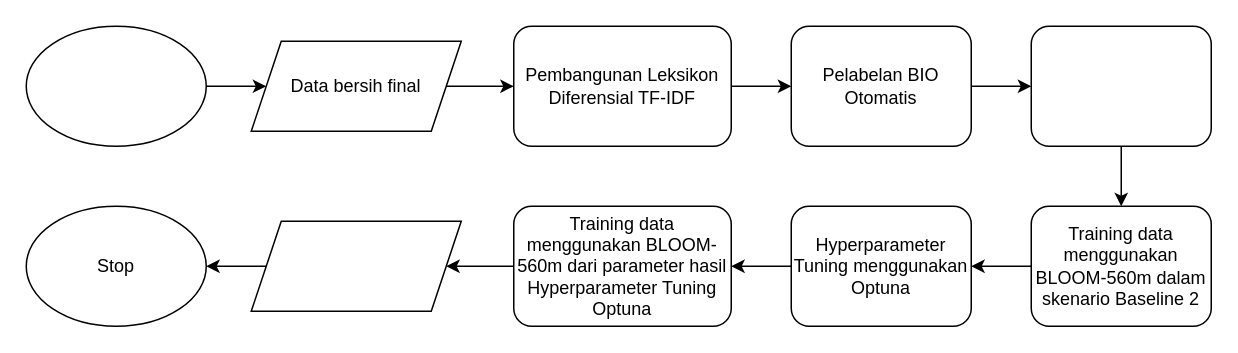
Image size: 1238x353. Some labels were removed from this diagram. Each missing label, with the box of its shape:
Evaluasi metrik: (250, 220, 461, 311)
Start: (25, 25, 206, 146)
Training data menggunakan BLOOM-560m dalam skenario Baseline 1: (1030, 25, 1211, 146)
